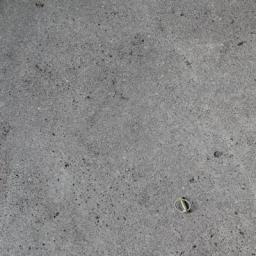FOD: (171, 193, 196, 217)
